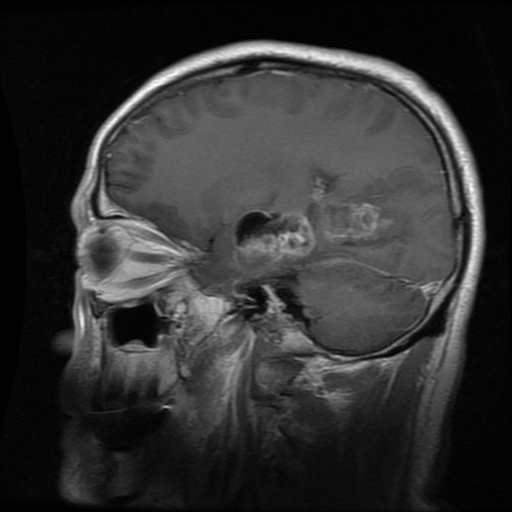glioma: (231, 168, 410, 277)
